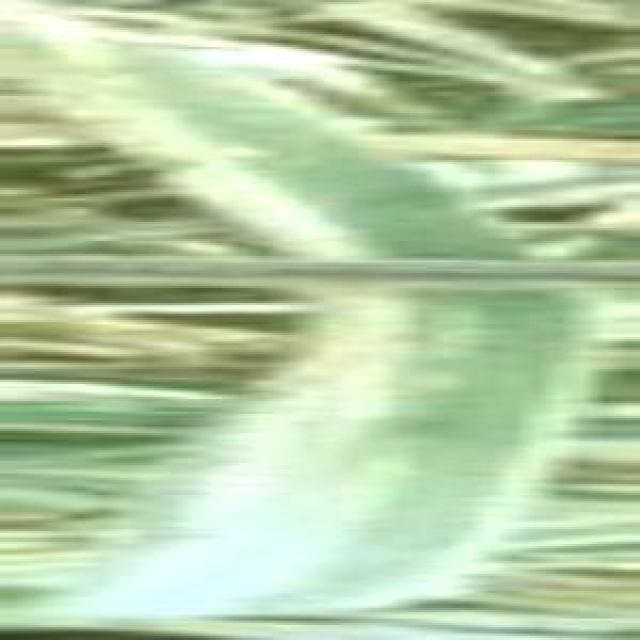Bacterial_Leaf_Blight: (192, 73, 576, 625)
